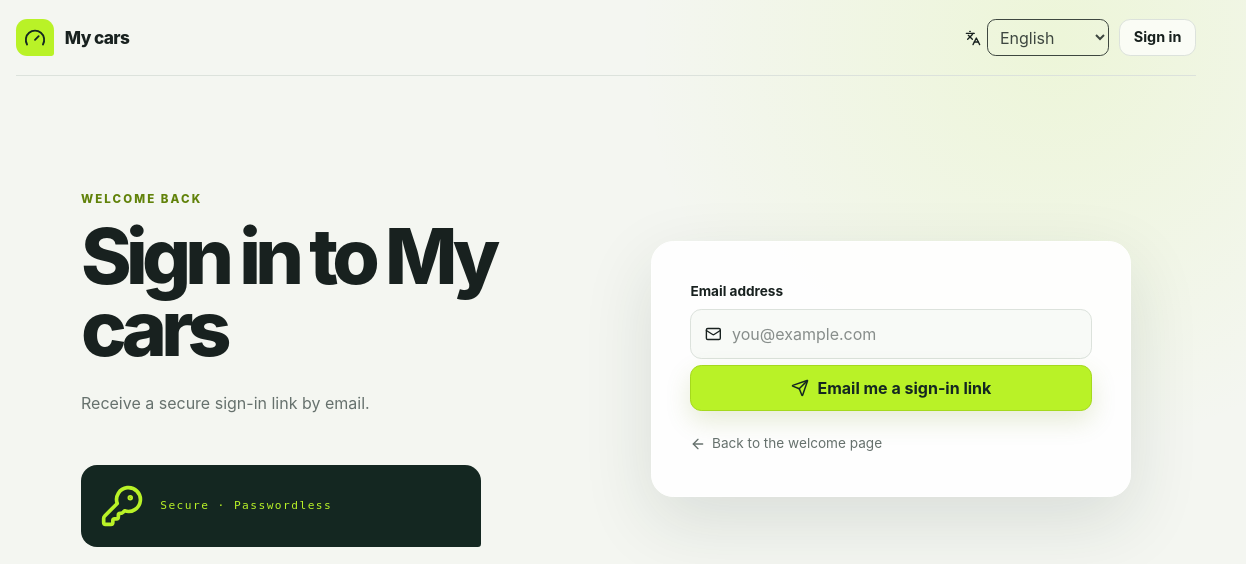
Test case: public routes › submits a validated magic-link request with account-neutral feedback
Type "driver@example.com" into the field labelled "Email address". click: (905, 334)
box: [732,310,1077,358]
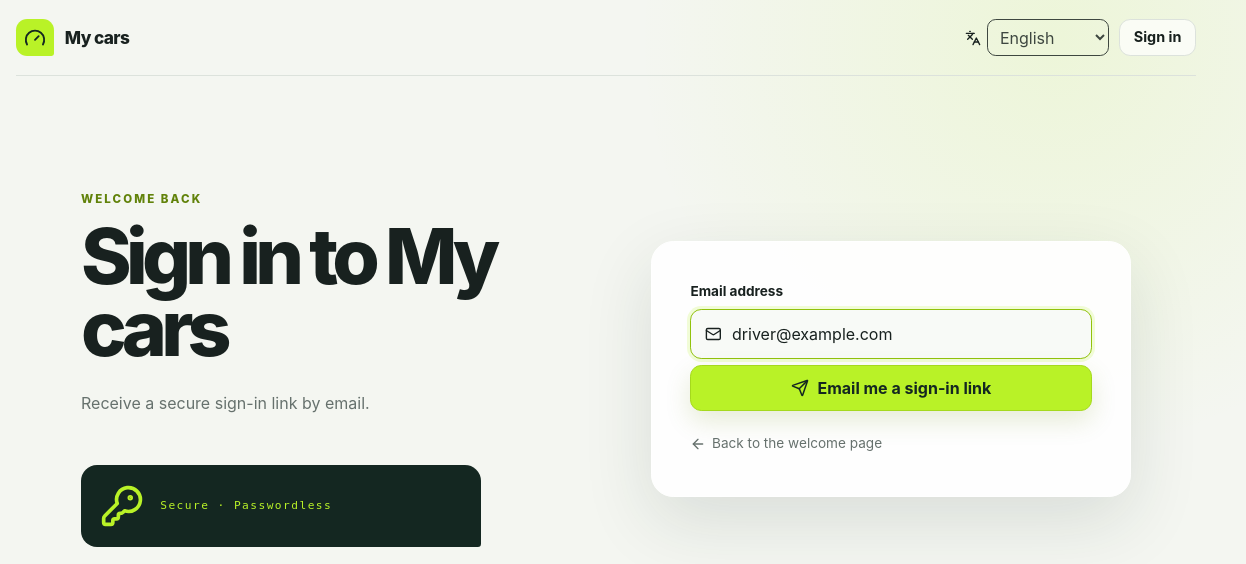
Click the button "Email me a sign-in link". click: (891, 388)
box: [690,366,1092,411]
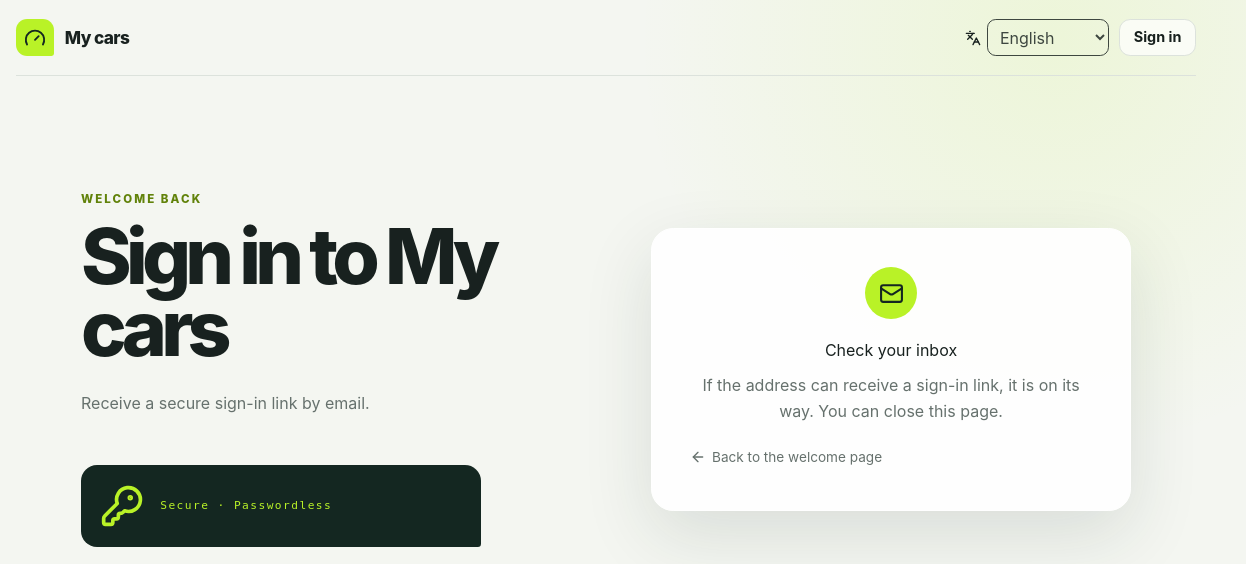
expect the element that starts with "Check your inbox" is shown: met, box [825,340,957,360]
